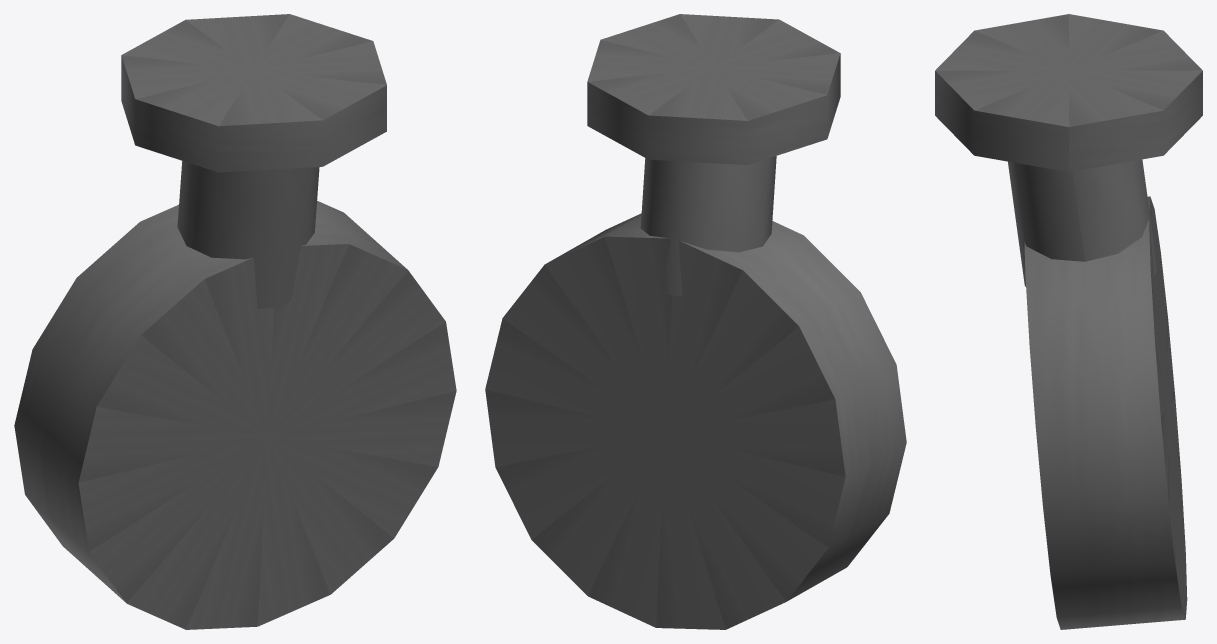
Rendered from mastarmcurve_8x2_c8_up.obj.
3 renders of one model, left to right at view 1: azimuth 30°, elevation 25°; view 2: azimuth 150°, elevation 25°; view 3: azimuth 270°, elevation 25°, orthographic. The views are drawn at different scales.
Parts seen in each view (by area): view 1: mastarm_8x2_c8_up; view 2: mastarm_8x2_c8_up; view 3: mastarm_8x2_c8_up.
Part boxes in pixels (box(x1,y1,x2,y2)): mastarm_8x2_c8_up: box(14, 14, 456, 629); mastarm_8x2_c8_up: box(485, 14, 906, 629); mastarm_8x2_c8_up: box(935, 14, 1202, 629).
Size of the model in its own units: 0.6351 by 0.8893 by 0.4.
